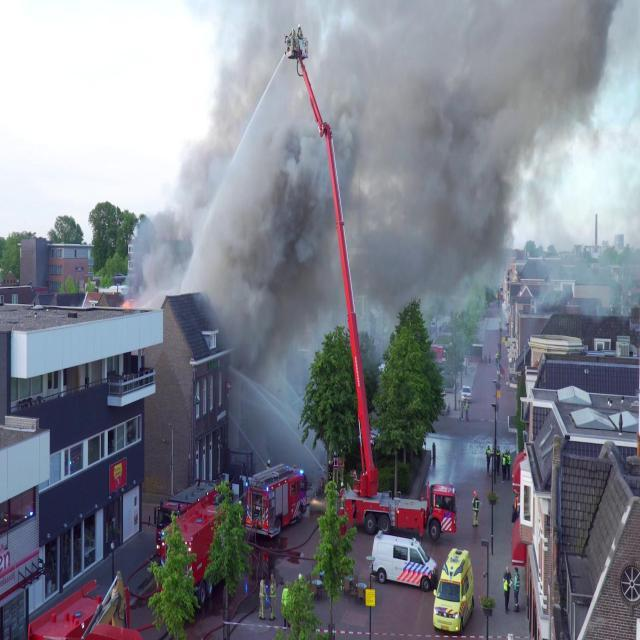Smoke: (124, 6, 620, 384)
